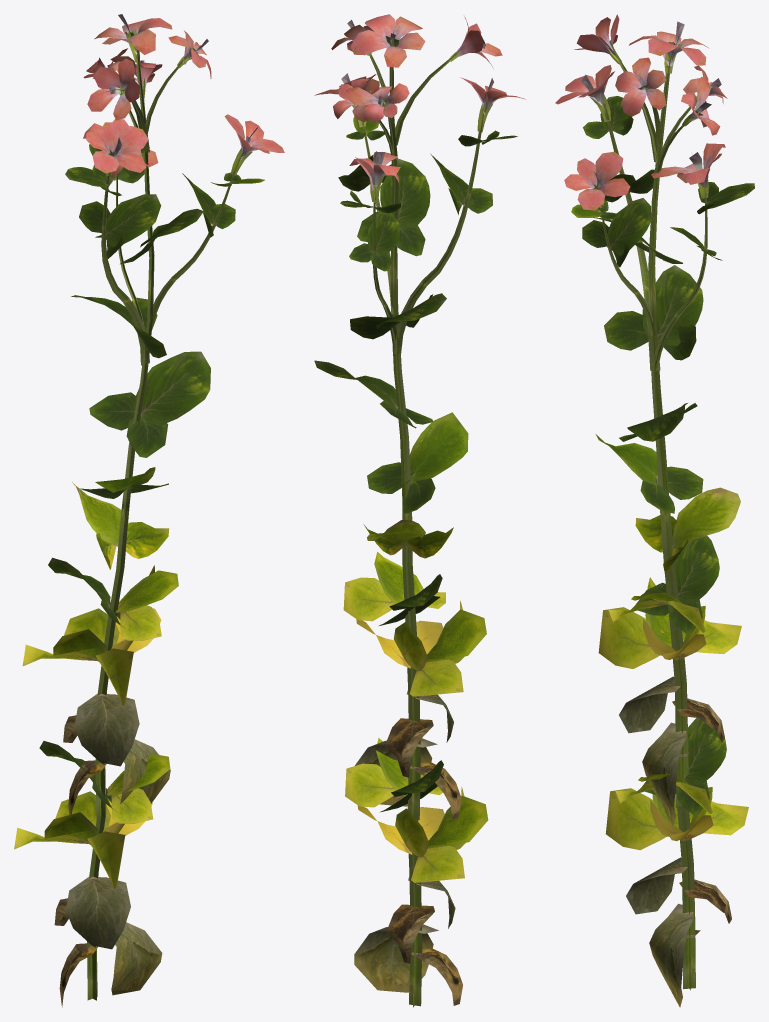
The model's file is Periwinkle_bush_long_peach.glb.
3 views of the same model, side by side, from view 1: azimuth 30°, elevation 25°; view 2: azimuth 150°, elevation 25°; view 3: azimuth 270°, elevation 25° (orthographic).
Parts seen in each view (by area): view 1: _b868_Var1_LOD1.2; view 2: _b868_Var1_LOD1.2; view 3: _b868_Var1_LOD1.2.
Part boxes in pixels (x1,y1,x2,y2): _b868_Var1_LOD1.2: (14, 14, 284, 1007); _b868_Var1_LOD1.2: (314, 14, 525, 1007); _b868_Var1_LOD1.2: (555, 14, 754, 1007).
Bounding box in the file's own units: 0.7607 × 3.45 × 0.6398.
Materials: 1 (1 with a texture image).
